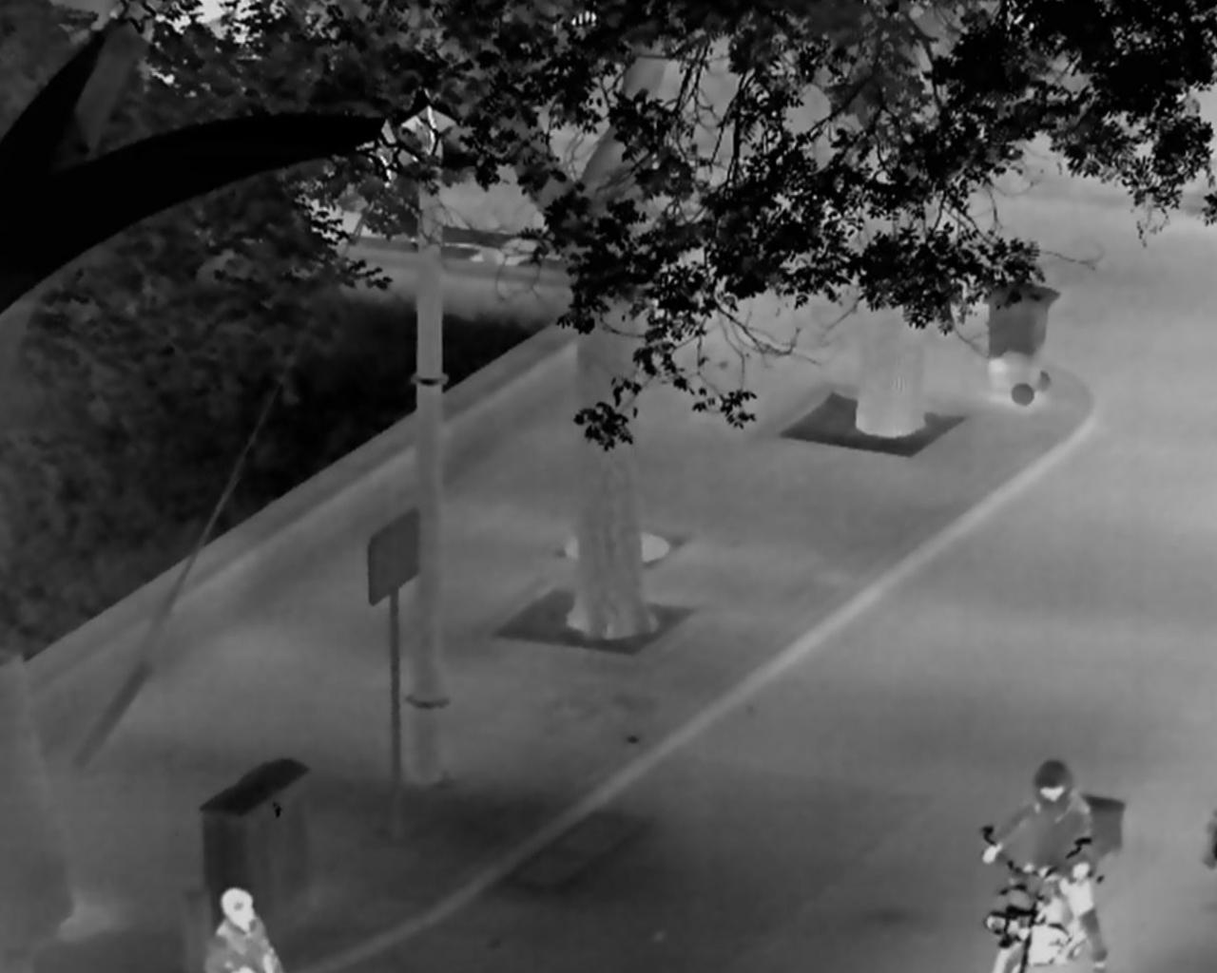person: (978, 758, 1108, 973), (201, 886, 287, 973)
